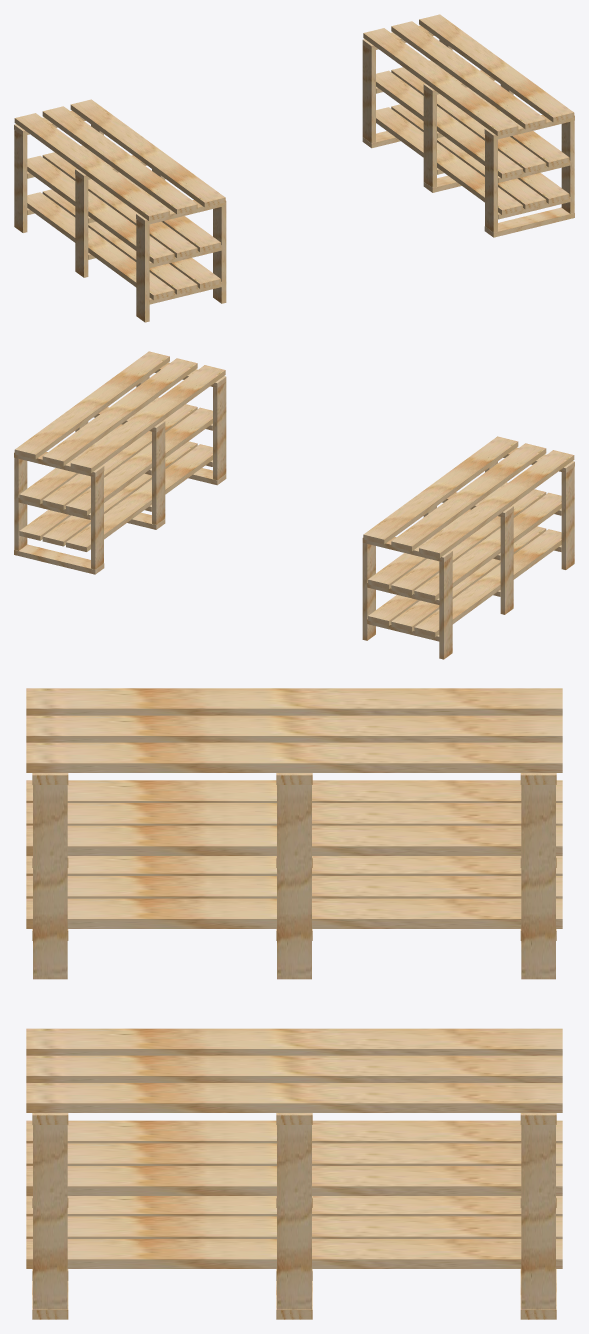
Rendered from BancosapateiraAR.gltf.
3 views of the same model, one above another, from view 1: azimuth 30°, elevation 25°; view 2: azimuth 150°, elevation 25°; view 3: azimuth 270°, elevation 25° (orthographic). The views are drawn at different scales.
Parts seen in each view (by area): view 1: Cube.009, Cube.010, Cube.040, Cube.008, Cube.038, Cube.039, Cube.013, Cube.016, Cube.032, Cube.035, Cube.014, Cube.034 (+17 smaller); view 2: Cube.009, Cube.010, Cube.040, Cube.008, Cube.038, Cube.039, Cube.013, Cube.016, Cube.032, Cube.035, Cube.014, Cube.034 (+17 smaller); view 3: Cube.009, Cube.039, Cube.008, Cube.010, Cube.040, Cube.038, Cube.015, Cube.012, Cube.036, Cube.033, Cube.032, Cube.014 (+12 smaller).
Part boxes in pixels (box(x1,y1,x2,y2)): Cube.009: box(70, 99, 225, 207); Cube.010: box(14, 113, 169, 220); Cube.040: box(391, 21, 546, 129); Cube.008: box(42, 106, 197, 214); Cube.038: box(363, 28, 518, 135); Cube.039: box(419, 14, 574, 122); Cube.013: box(27, 192, 174, 300); Cube.016: box(27, 155, 174, 263); Cube.032: box(376, 70, 522, 178); Cube.035: box(376, 107, 522, 214); Cube.014: box(42, 152, 197, 257); Cube.034: box(391, 67, 546, 172); Cube.009: box(363, 436, 518, 544); Cube.010: box(419, 450, 574, 557); Cube.040: box(42, 358, 197, 466); Cube.008: box(391, 443, 546, 551); Cube.038: box(70, 365, 225, 472); Cube.039: box(14, 351, 169, 459); Cube.013: box(414, 529, 561, 637); Cube.016: box(414, 492, 561, 600); Cube.032: box(66, 407, 212, 515); Cube.035: box(66, 444, 212, 551); Cube.014: box(391, 489, 546, 594); Cube.034: box(42, 404, 197, 509); Cube.009: box(26, 742, 562, 772); Cube.039: box(26, 1083, 562, 1112); Cube.008: box(26, 715, 562, 742); Cube.010: box(26, 688, 562, 715); Cube.040: box(26, 1055, 562, 1082); Cube.038: box(26, 1028, 562, 1055); Cube.015: box(26, 825, 562, 855); Cube.012: box(26, 898, 562, 928); Cube.036: box(26, 1239, 562, 1268); Cube.033: box(26, 1166, 562, 1195); Cube.032: box(26, 1120, 562, 1143); Cube.014: box(26, 803, 562, 825).
Size of the model in its own units: 1.85 by 0.44 by 1.
Materials: 3 (3 with a texture image).
